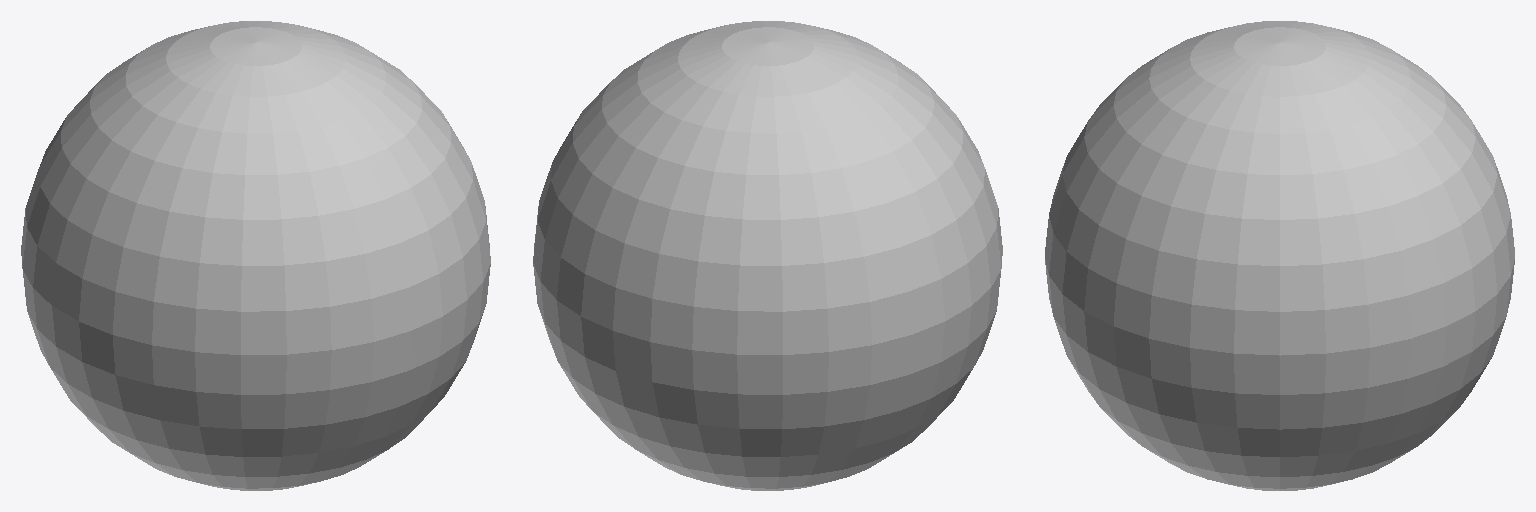
File: skysphere.obj
The picture shows the model from 3 angles: view 1: azimuth 30°, elevation 25°; view 2: azimuth 150°, elevation 25°; view 3: azimuth 270°, elevation 25°; orthographic projection.
Parts seen in each view (by area): view 1: Sphere_Sphere.013; view 2: Sphere_Sphere.013; view 3: Sphere_Sphere.013.
Part boxes in pixels (x1,y1,x2,y2): Sphere_Sphere.013: (21,21,490,490); Sphere_Sphere.013: (533,21,1002,490); Sphere_Sphere.013: (1045,21,1514,490).
Size of the model in its own units: 2 by 2 by 2.